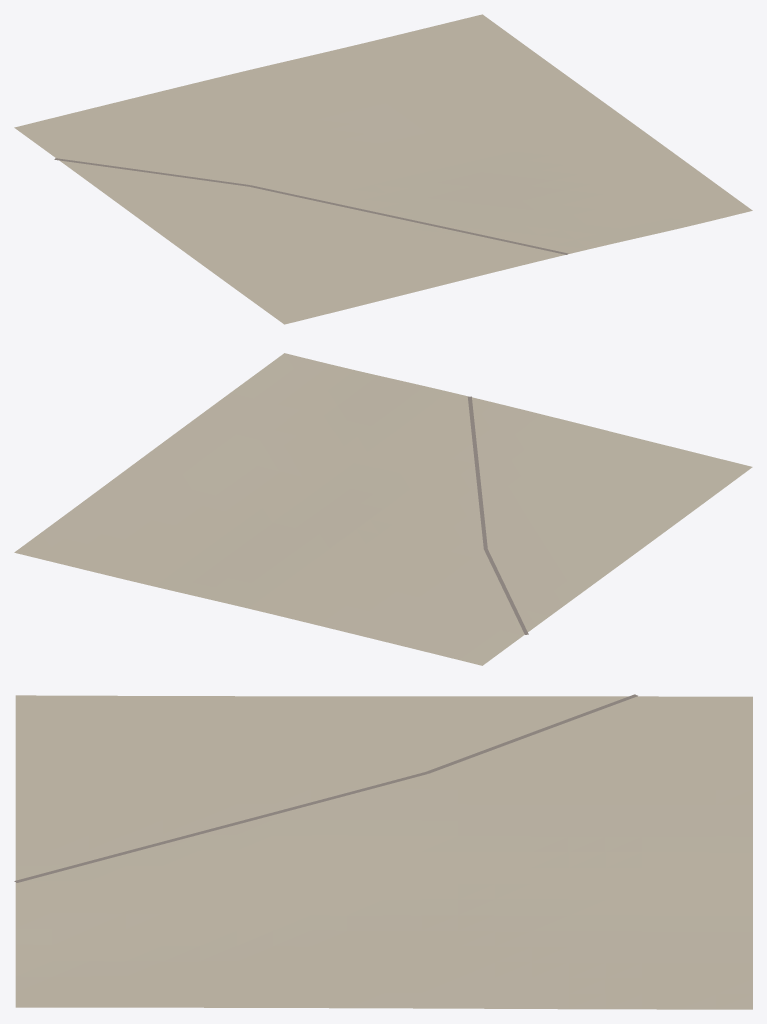
The model's file is bolak_20_-7.glb.
3 views of the same model, one above another, from view 1: azimuth 30°, elevation 25°; view 2: azimuth 150°, elevation 25°; view 3: azimuth 270°, elevation 25° (orthographic). The views are drawn at different scales.
Parts seen in each view (by area): view 1: Yer_Tuproq-col, Temir_Yol; view 2: Yer_Tuproq-col, Temir_Yol; view 3: Yer_Tuproq-col, Temir_Yol.
Boxes of the visible parts, bbox=[...] form: Yer_Tuproq-col: bbox=[14, 14, 752, 324]; Temir_Yol: bbox=[54, 158, 568, 254]; Yer_Tuproq-col: bbox=[14, 353, 752, 665]; Temir_Yol: bbox=[467, 396, 528, 634]; Yer_Tuproq-col: bbox=[15, 695, 752, 1009]; Temir_Yol: bbox=[14, 694, 637, 882].
Bounding box in the file's own units: 403 × 2.67 × 401.
